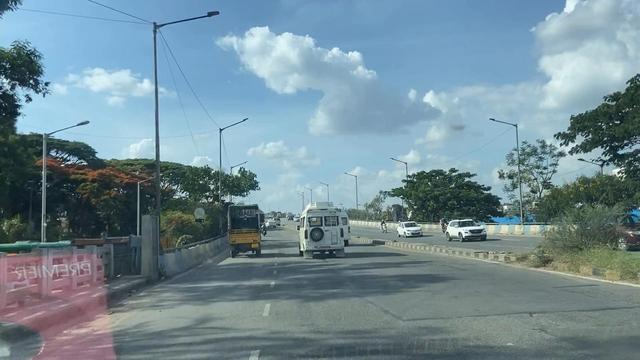HMV: (225, 202, 268, 260), (297, 209, 338, 255)
